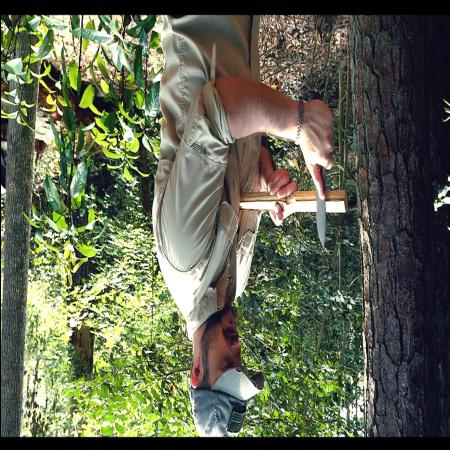long weapon: (304, 112, 336, 254)
